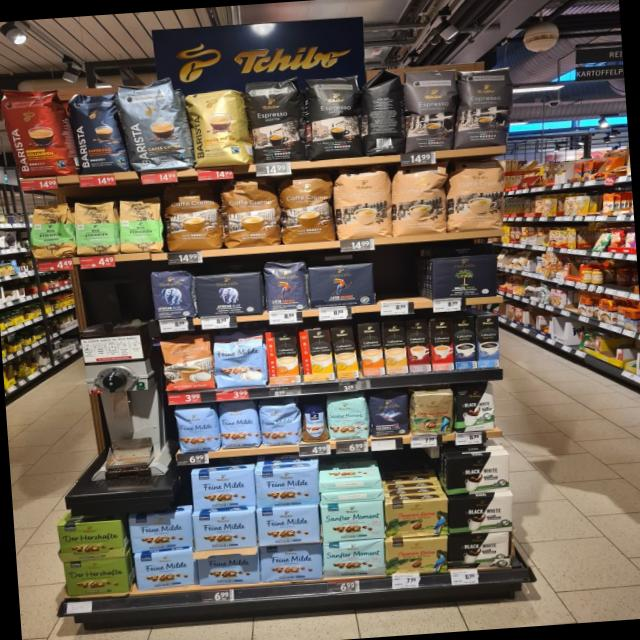AB Bohne: (148, 268, 196, 320)
AB Gemahlen: (194, 270, 264, 318)
Athiopien Bohne: (29, 203, 75, 260)
Athiopien Gemahlen: (114, 196, 164, 254), (71, 200, 119, 256)
BM Gemahlen: (430, 252, 498, 300)
BW Bohne: (452, 382, 497, 434)
BW Gemahlen: (443, 452, 513, 496), (448, 492, 516, 536), (449, 530, 514, 570)
Barista CB: (183, 86, 252, 168)
Barista CC: (113, 76, 194, 172)
Barista Espresso: (66, 88, 128, 176)
Barista Kolumbien: (0, 83, 72, 178)
C Fino Bohne: (368, 391, 412, 438)
CC Mild: (332, 166, 393, 242), (448, 157, 508, 232), (390, 162, 448, 236)
CC Vollmundig: (157, 332, 216, 393)
CC Vollmundig 36 Pads: (160, 179, 223, 252), (220, 176, 282, 248), (277, 172, 334, 244)
Colombia BB Bohne: (411, 387, 456, 436)
Colombia BB Gemahlen: (383, 496, 451, 539), (385, 535, 451, 579)
Espresso Aromatisch: (402, 66, 462, 152), (456, 66, 516, 148)
Espresso Kraftig: (243, 76, 306, 163), (302, 72, 364, 159)
FM 36 Pads: (212, 329, 268, 388)
FM Bohne: (171, 402, 220, 454), (256, 397, 302, 447), (216, 400, 260, 450)
FM Gemahlen: (190, 508, 258, 551), (188, 466, 256, 509), (255, 503, 321, 546), (257, 540, 324, 582), (254, 465, 320, 506), (133, 548, 197, 590), (128, 512, 194, 552), (197, 546, 260, 586)
FM Instant: (298, 399, 330, 443)
Herzhatfe Mundig: (56, 520, 126, 562), (62, 556, 130, 597)
LG Bohne: (262, 257, 308, 312)
LG Gemahlen: (307, 262, 376, 310)
SM Bohne: (326, 392, 370, 442)
SM Gemahlen: (318, 499, 386, 543), (319, 537, 386, 581)
Simo CCMild bigpack: (299, 328, 334, 382), (330, 325, 359, 380)
Simo CCVollmundig: (265, 328, 300, 384)
Simo CCVollmundig bigpack: (358, 322, 384, 376)
Simo Decaff: (382, 320, 408, 374)
Simo Es Brazil: (428, 318, 455, 372)
Simo Es Caramel: (406, 317, 430, 372)
Simo Es Kraft: (452, 315, 478, 370)
Simo Es Vanilla: (476, 314, 502, 368)
